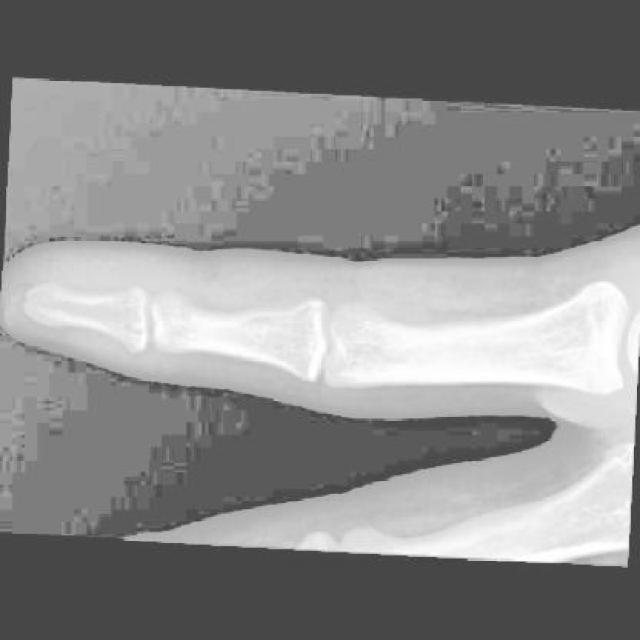Fracture: (25, 275, 151, 331)
